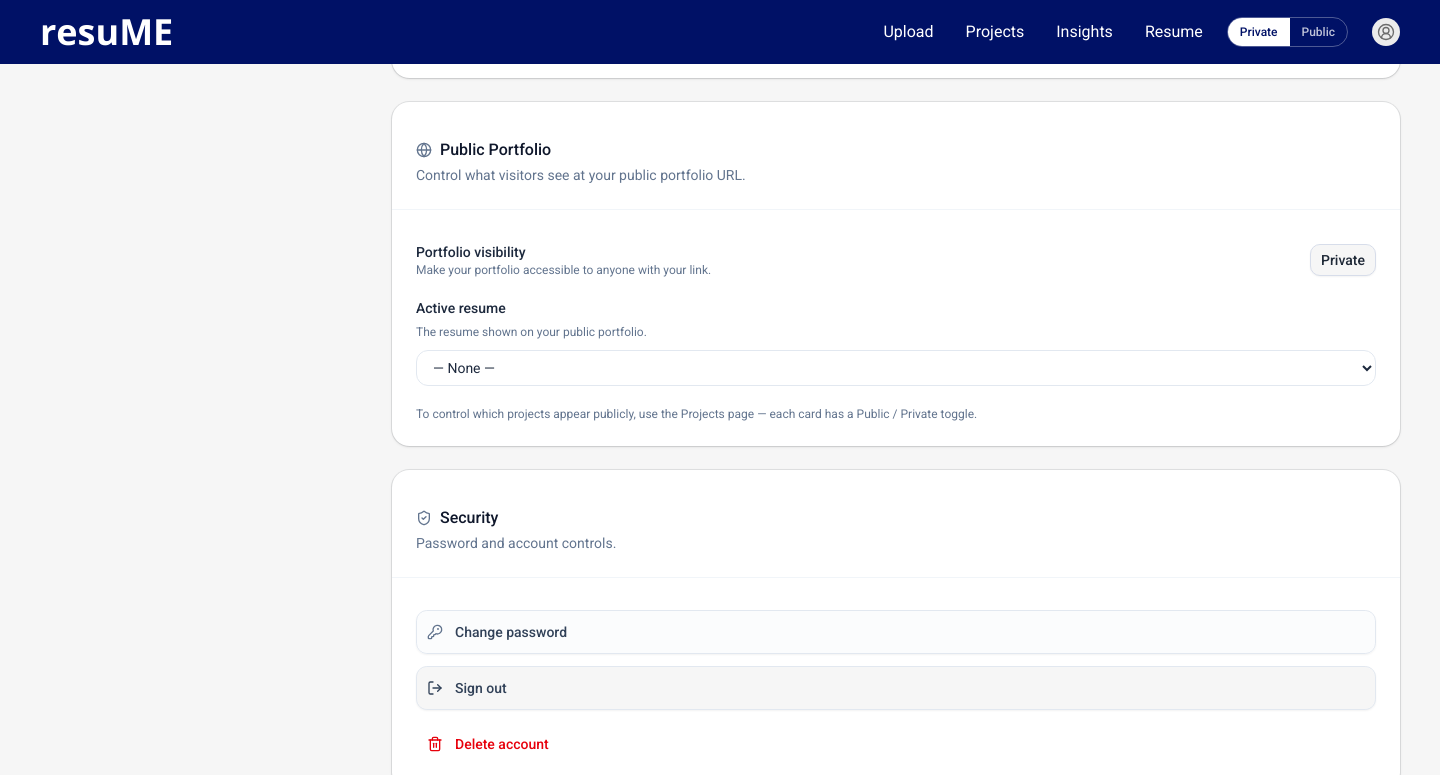
Test: ProfilePage › submits change password and shows success message
(page scrolled)
Expected: the text "Security" is shown, x1=416 y1=506 x2=498 y2=530
Click the button "Change password".
click(511, 632)  # box x1=416 y1=610 x2=1376 y2=654
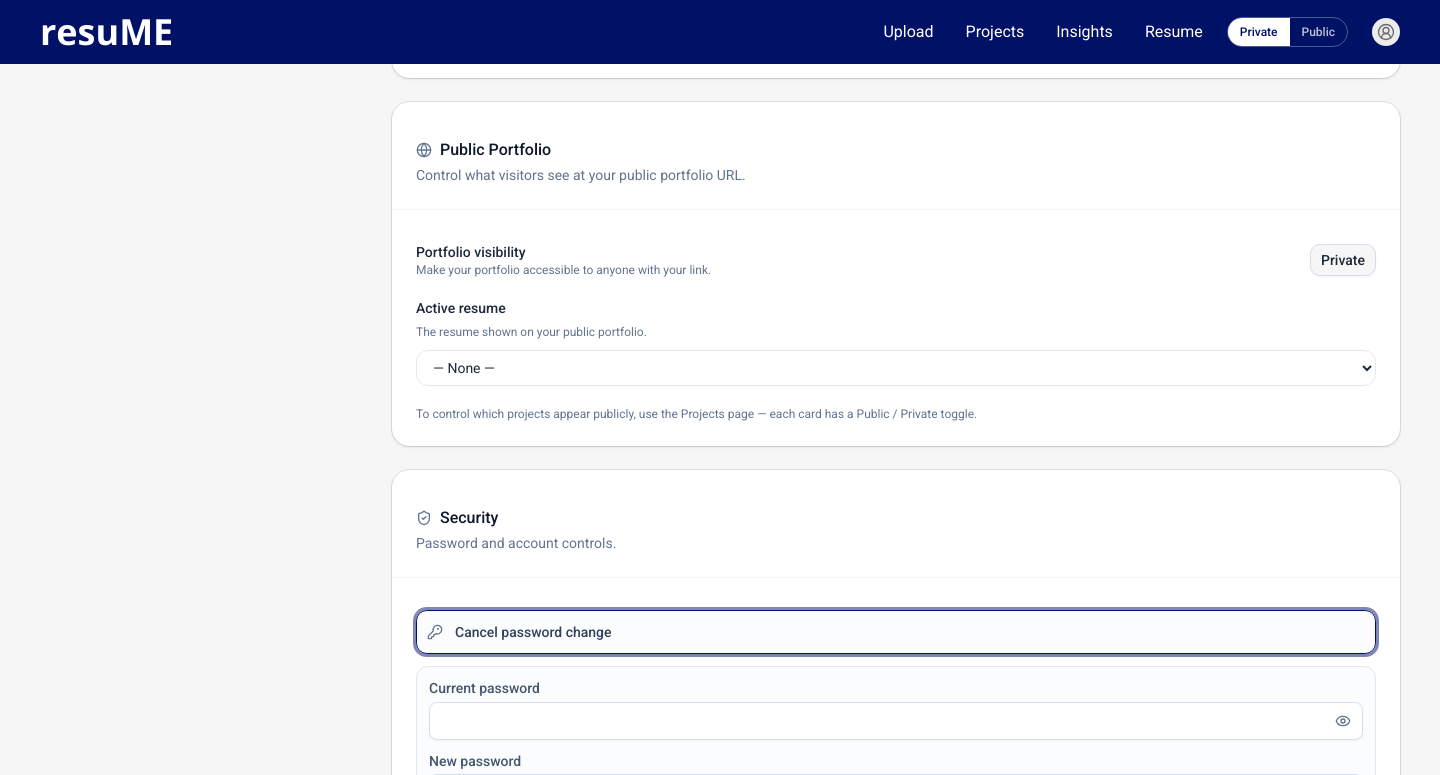
Type "OldPass123" into the password field labelled "Current password".
click(896, 721); type("OldPass123")  # box x1=429 y1=702 x2=1363 y2=740
(page scrolled)
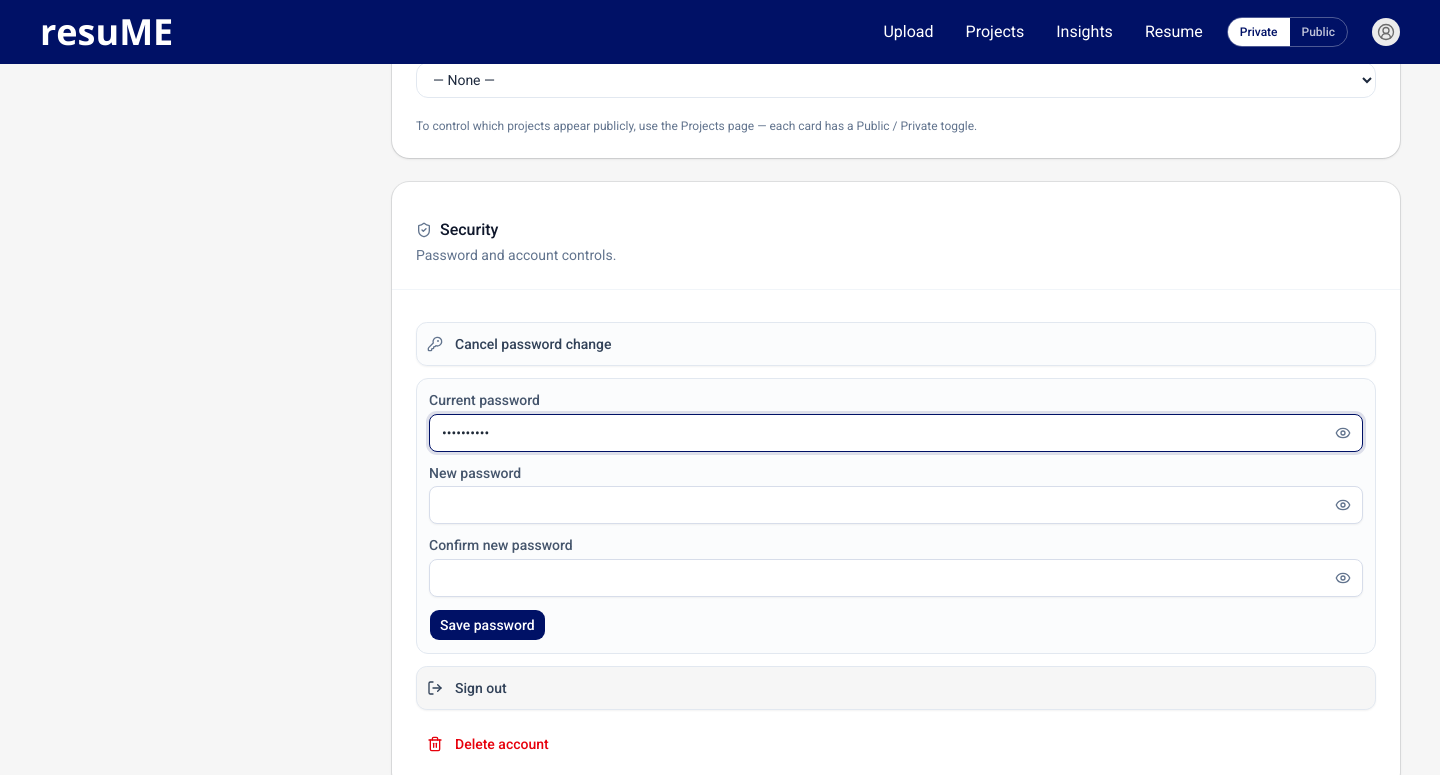
Type "NewPass123" into the password field labelled "New password".
click(896, 505); type("NewPass123")  # box x1=429 y1=486 x2=1363 y2=524
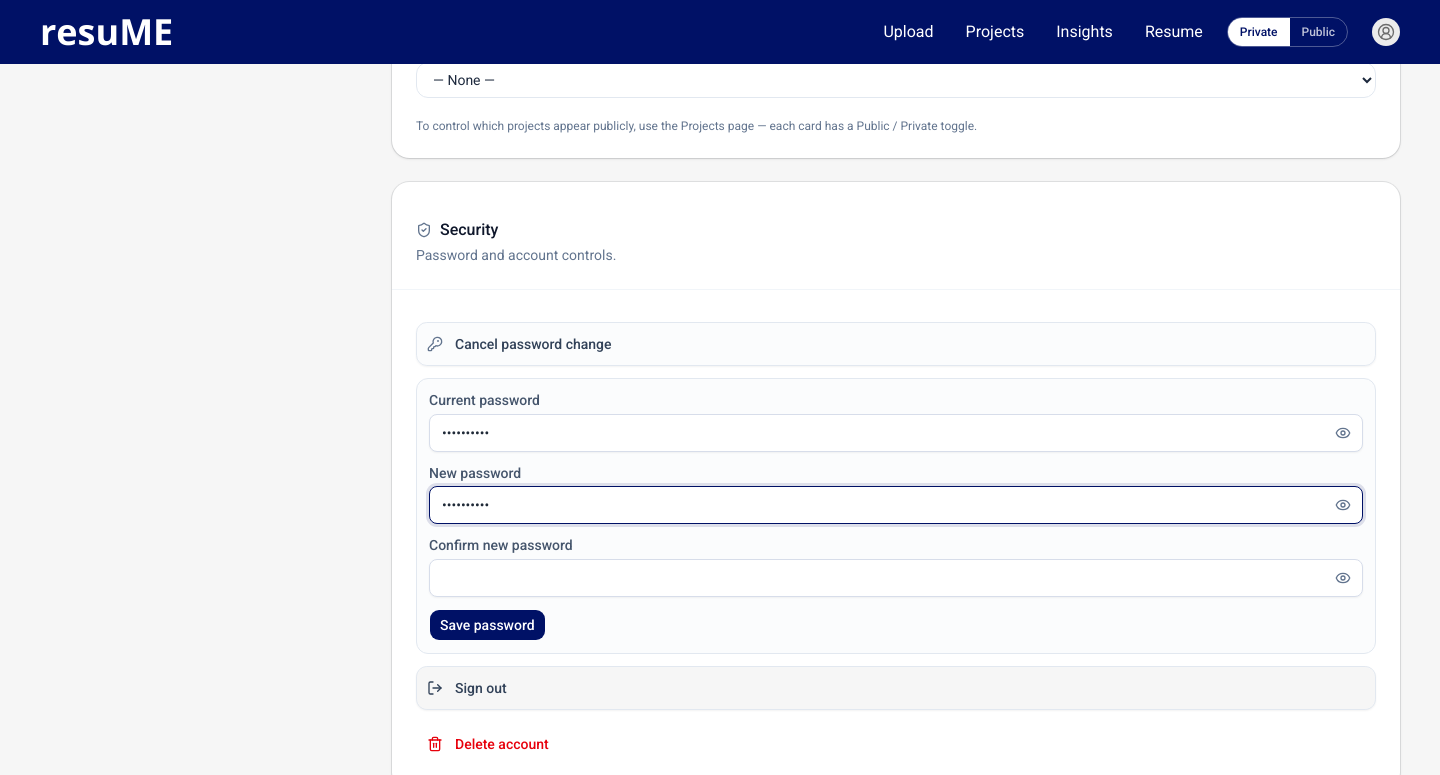
Type "NewPass123" into the password field labelled "Confirm new password".
click(896, 578); type("NewPass123")  # box x1=429 y1=559 x2=1363 y2=597
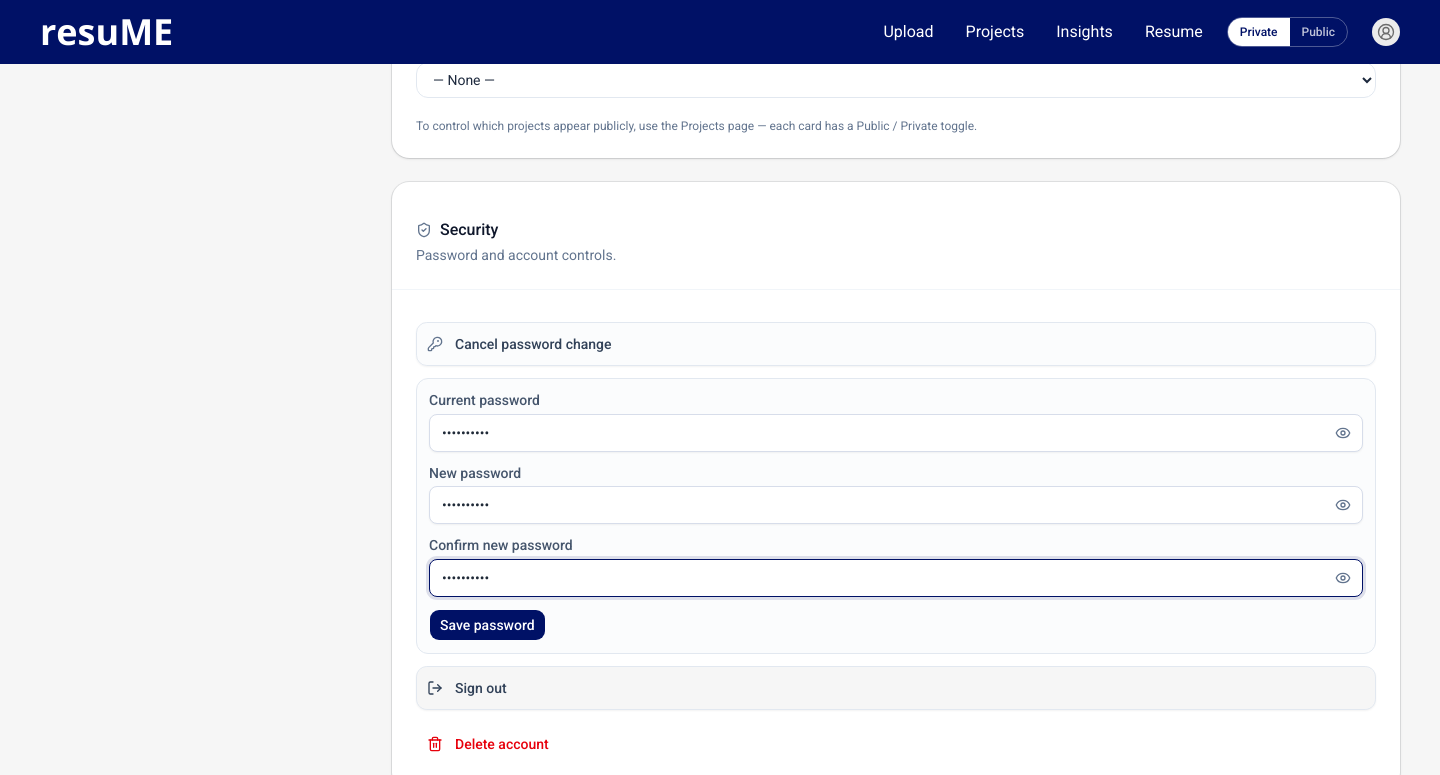
Click the button "Save password".
click(487, 625)  # box x1=429 y1=609 x2=546 y2=641
(page scrolled)
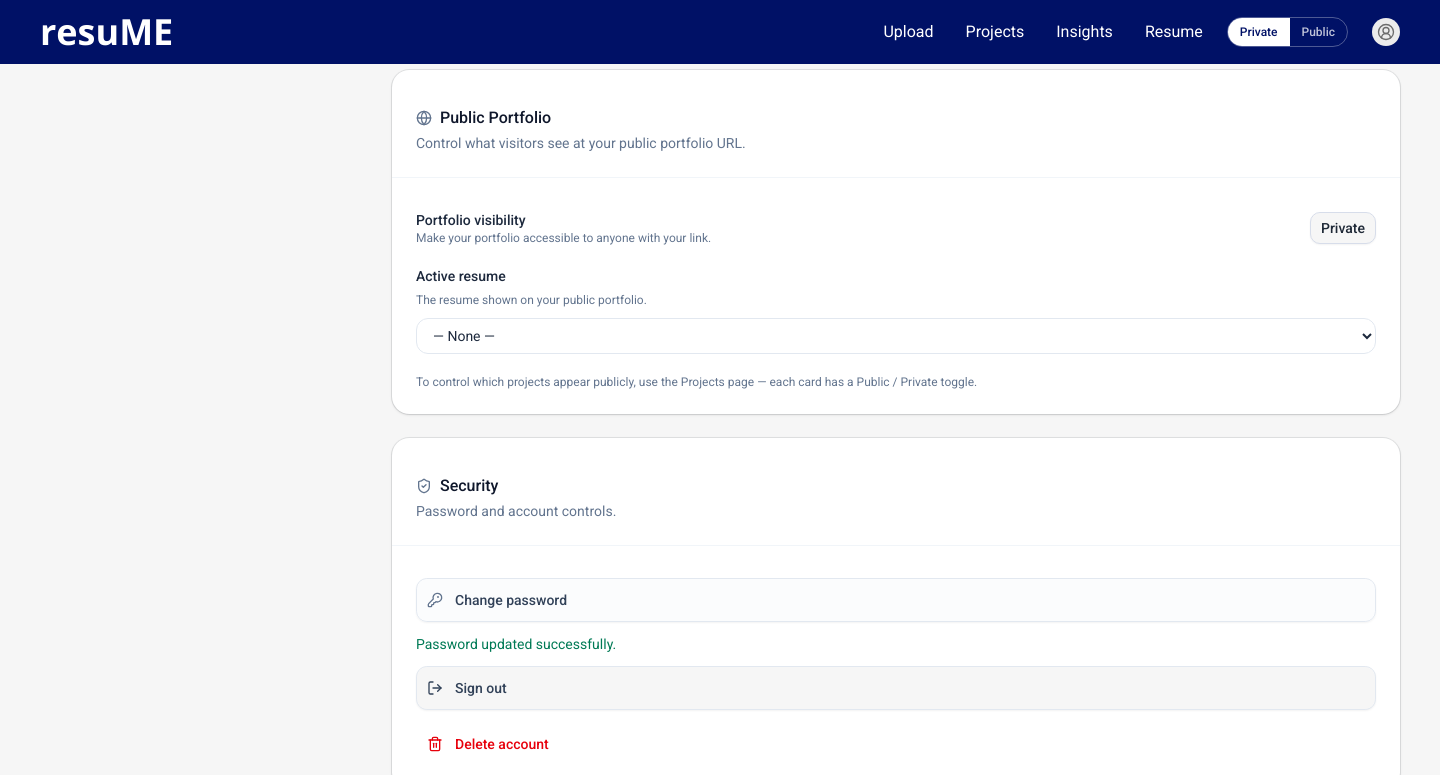
Result: the text "Password updated successfully." is shown at x1=416 y1=636 x2=616 y2=652
